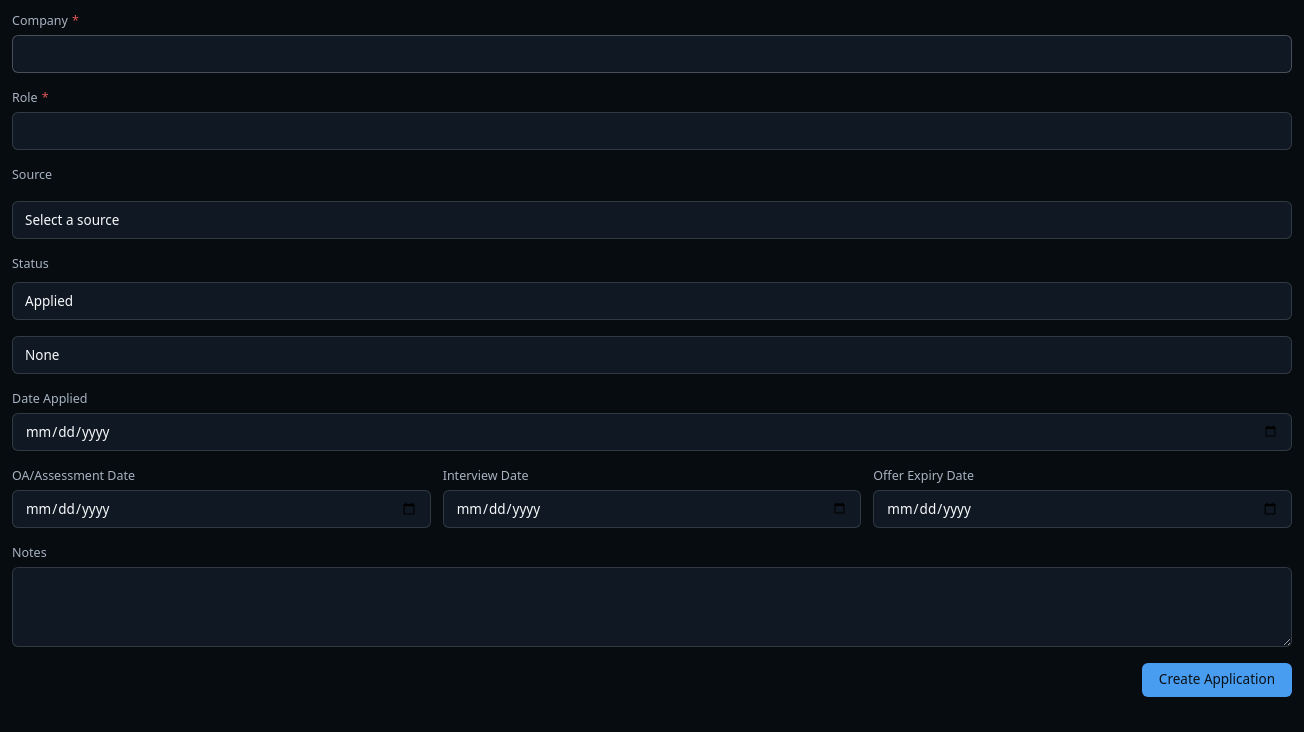
AddApplicationForm › form validation feedback › shows generic error on FAILURE
Step 1. Type "Acme Corp" into the field labelled "Company *" → point(652, 54), box x1=12 y1=35 x2=1292 y2=73
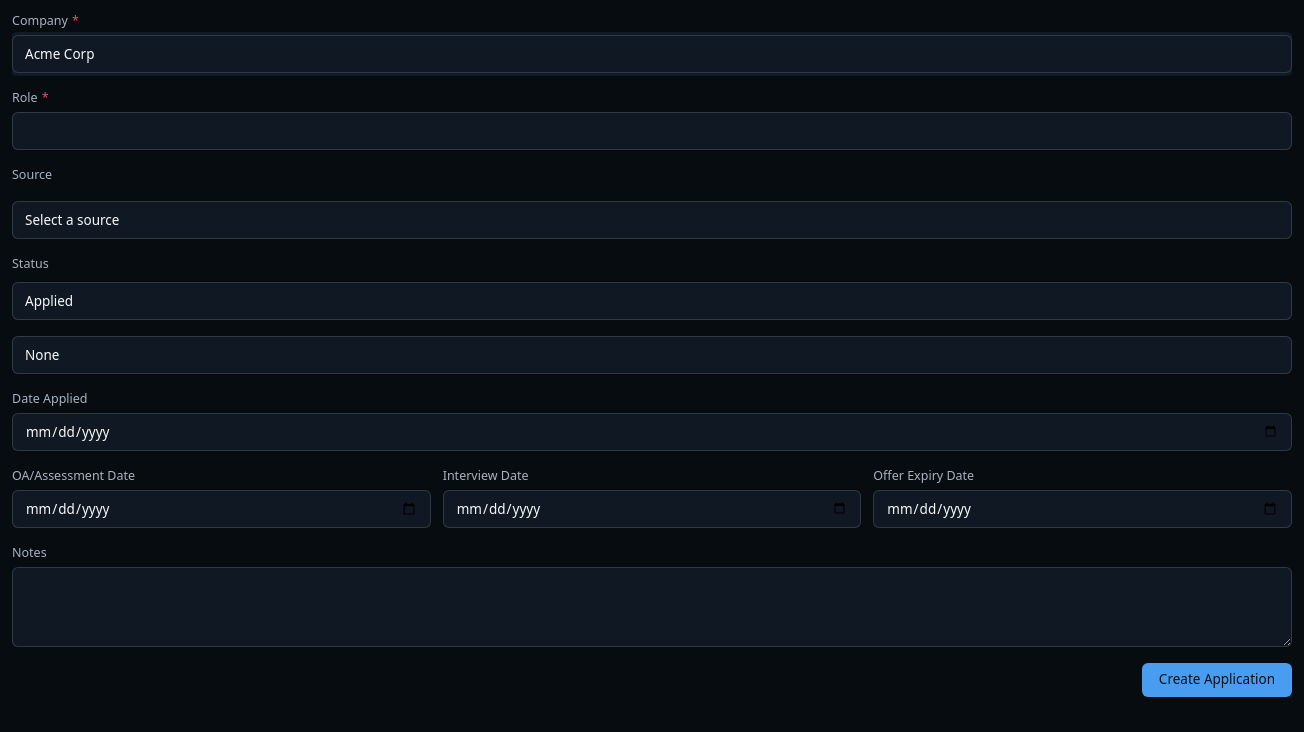
Step 2. Type "Engineer" into the field labelled "Role *" → point(652, 131), box x1=12 y1=112 x2=1292 y2=150
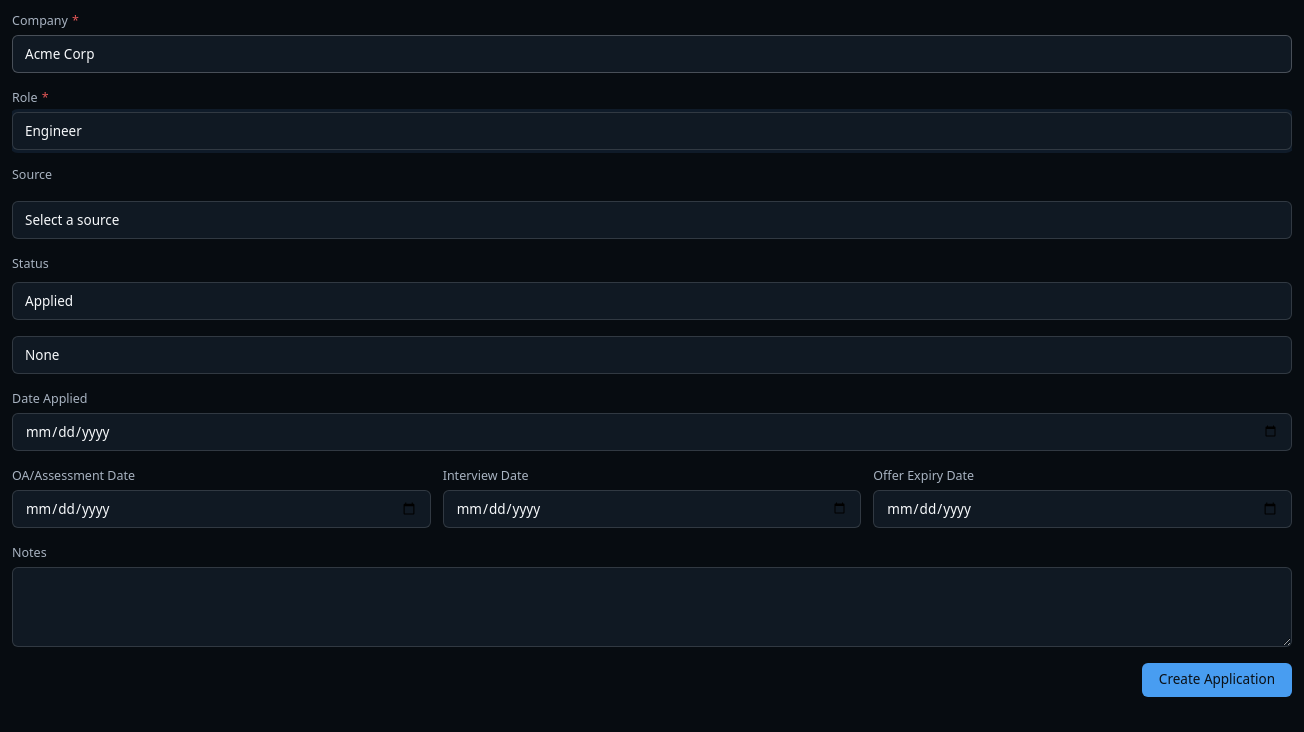
Step 3. Click the button "Create Application" → point(1217, 680), box x1=1142 y1=663 x2=1292 y2=697
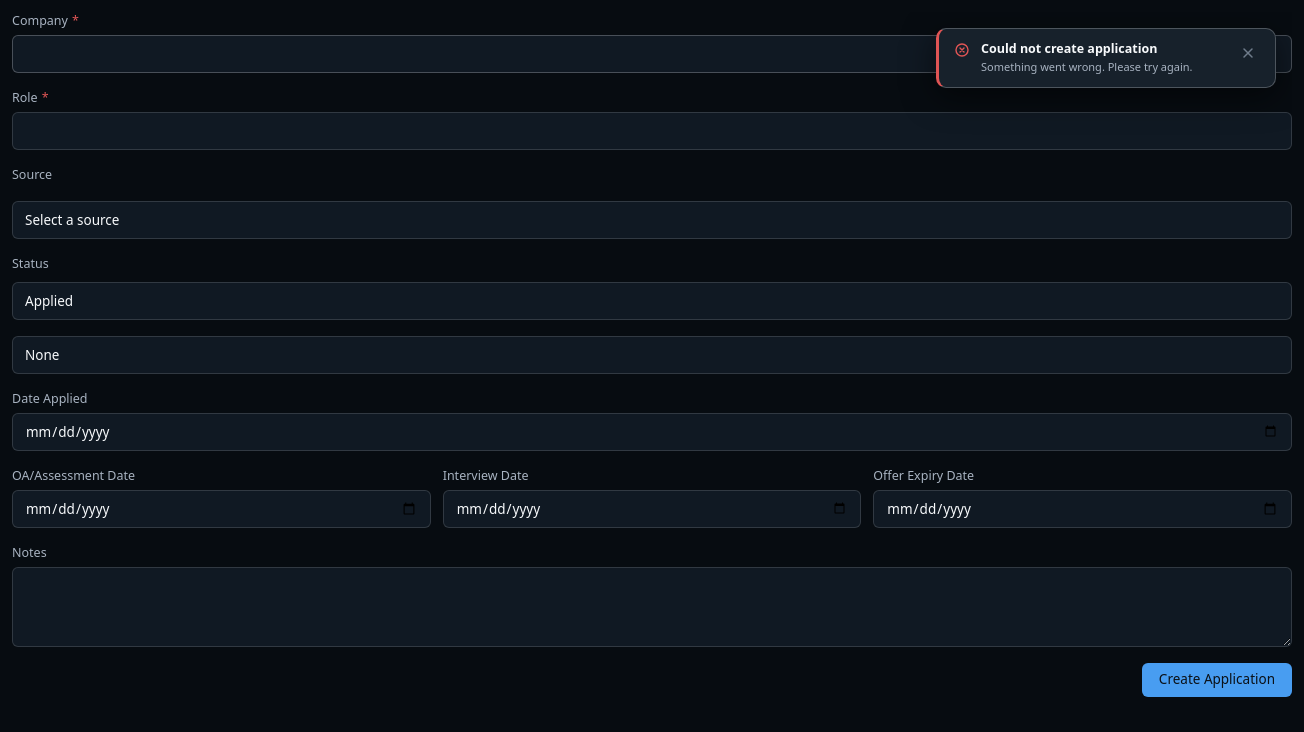
Expected: the text "Something went wrong. Please try again." is shown, x1=981 y1=59 x2=1225 y2=75
